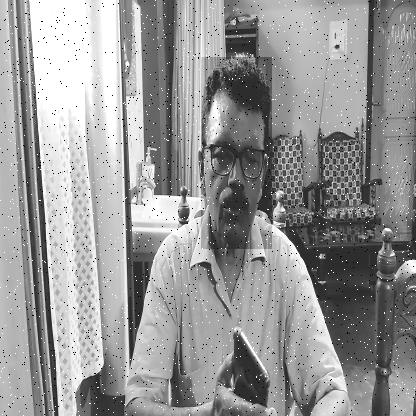Normal: (201, 57, 272, 249)
